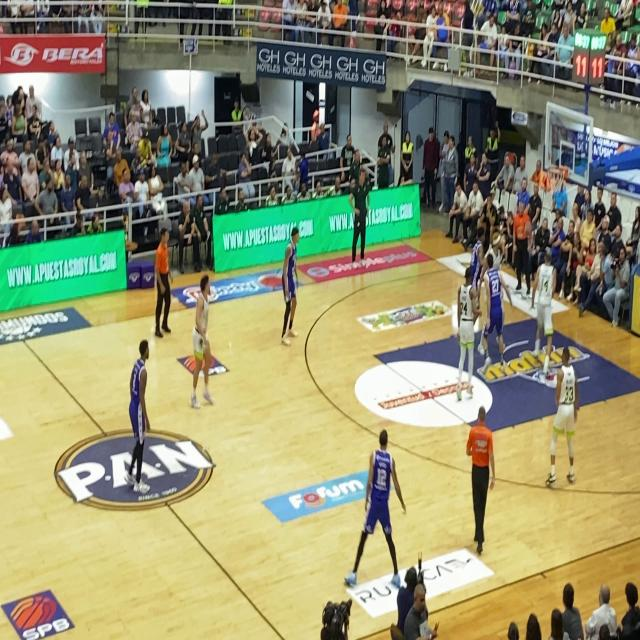referee: (464, 401, 505, 557)
team1: (182, 262, 216, 440), (545, 338, 581, 478), (458, 258, 486, 405)
team2: (355, 419, 406, 596), (123, 334, 159, 528), (278, 220, 305, 336)
ubasket: (546, 162, 566, 194)
